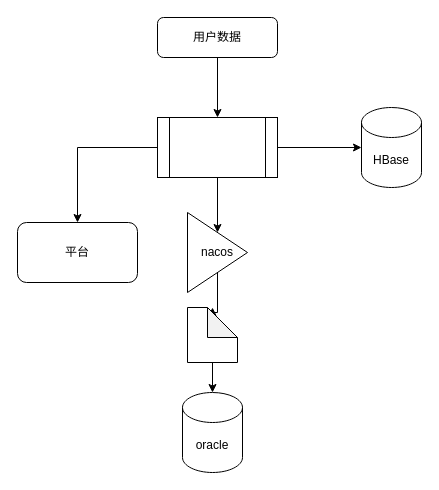
The diagram is 439 pixels wide and 490 high, and some of its shapes have lost their labels. Here are the shapes that lost their labels. From the top down, the box of each, then its label:
(156, 116, 278, 178): kafka
(186, 306, 238, 362): java
